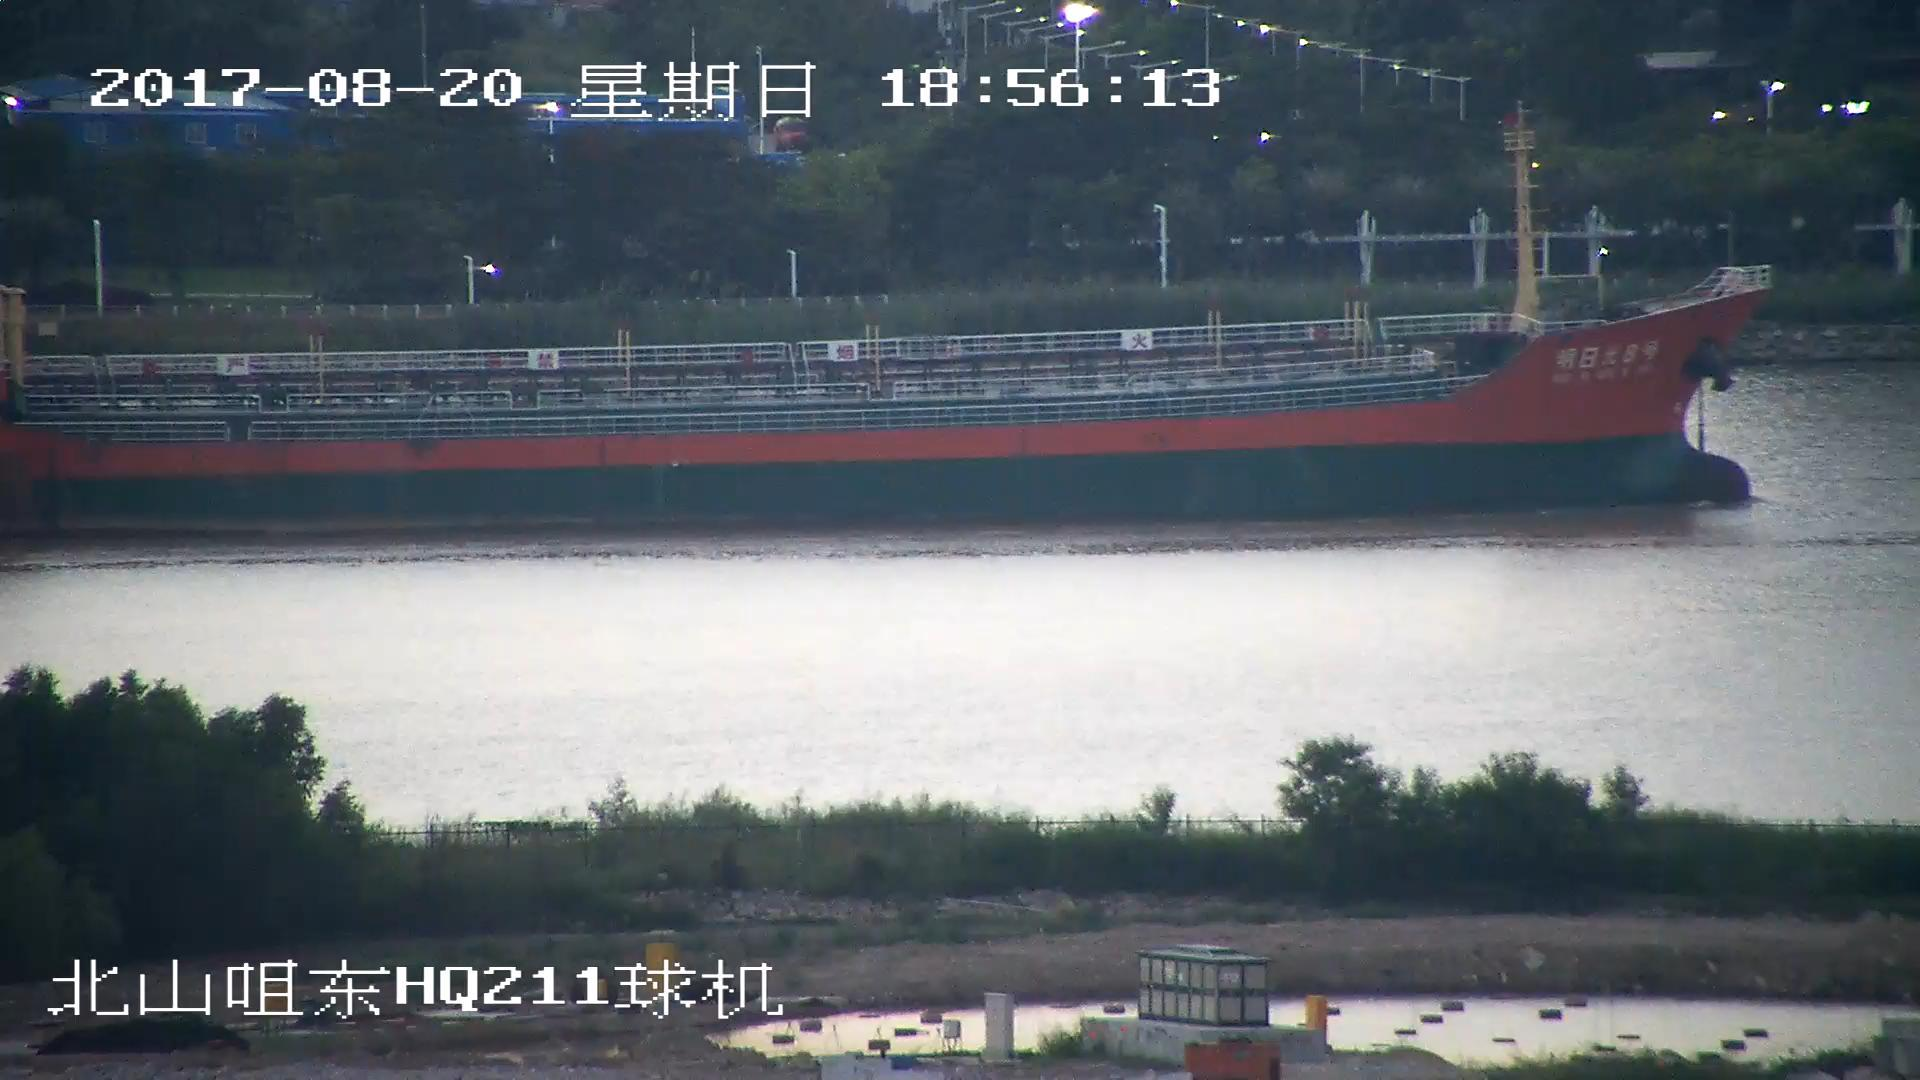Ship: (3, 117, 1784, 524)
